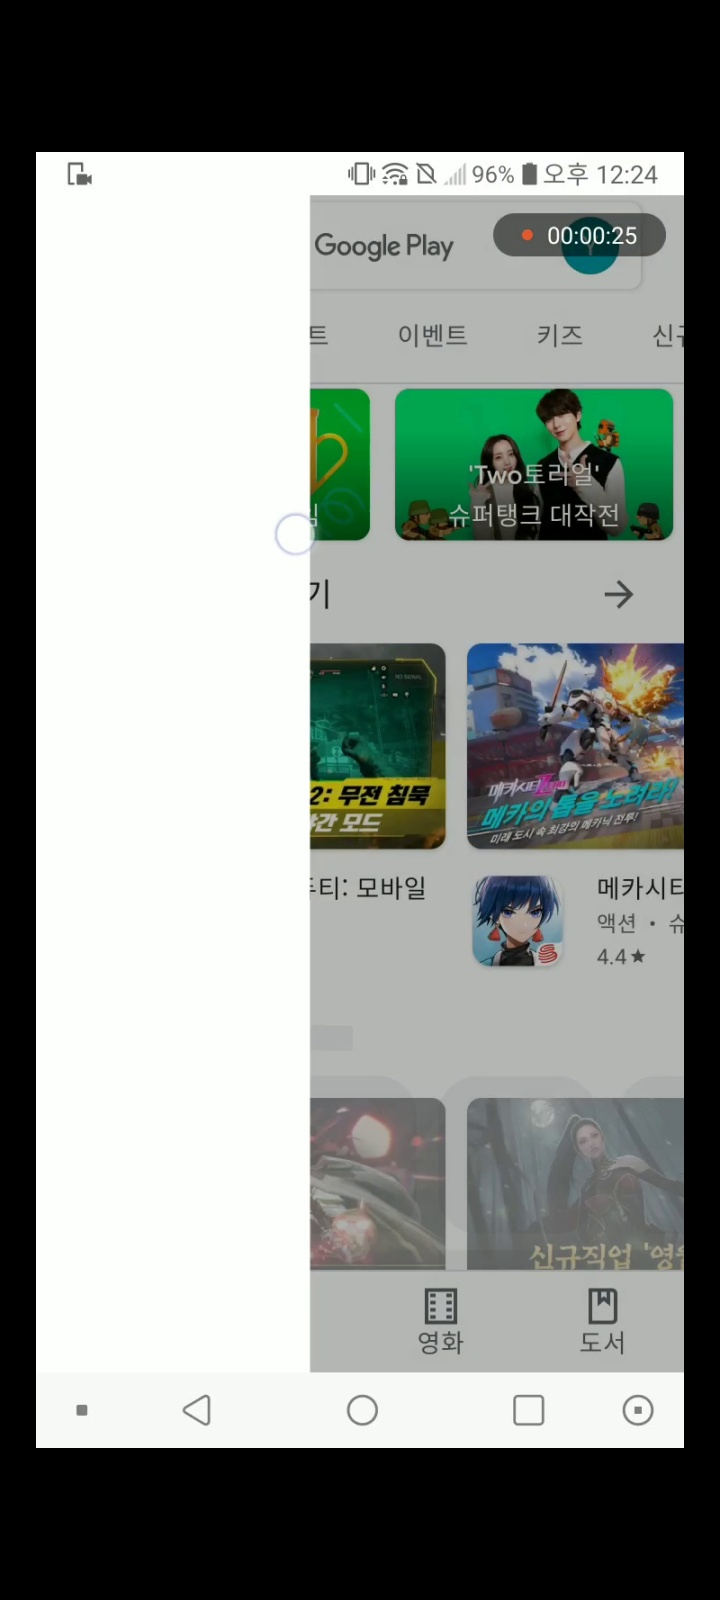Cursor: (273, 512, 318, 557)
